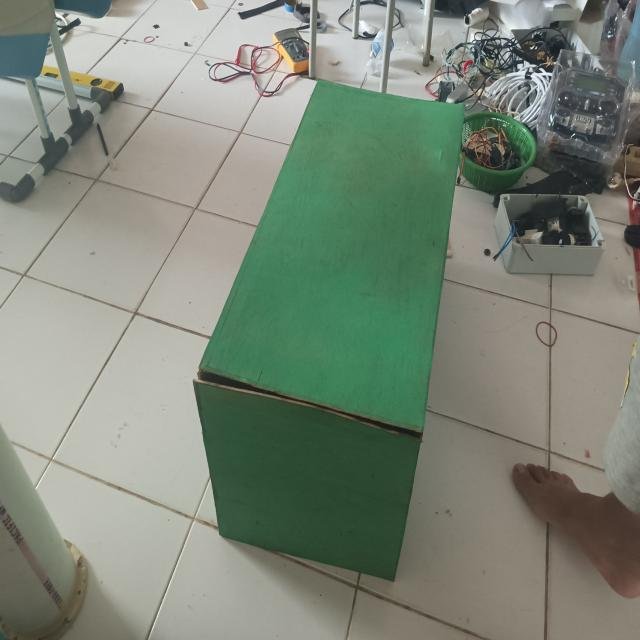green_box: (196, 73, 471, 640)
